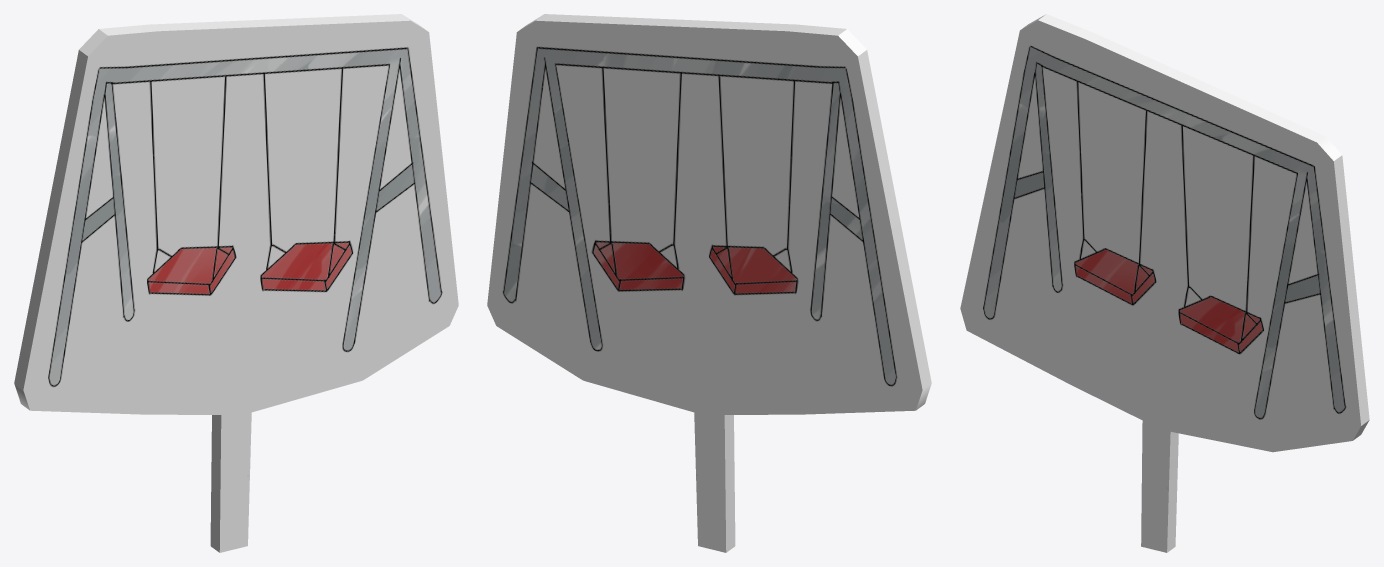
File: swing.fbx
3 renders of one model, left to right at view 1: azimuth 30°, elevation 25°; view 2: azimuth 150°, elevation 25°; view 3: azimuth 330°, elevation 25°, orthographic. The views are drawn at different scales.
Parts seen in each view (by area): view 1: swing; view 2: swing; view 3: swing.
Part boxes in pixels (x1,y1,x2,y2): swing: (14, 14, 458, 552); swing: (487, 14, 931, 552); swing: (960, 14, 1369, 552).
Bounding box in the file's own units: 22.28 × 26.62 × 0.8179.
